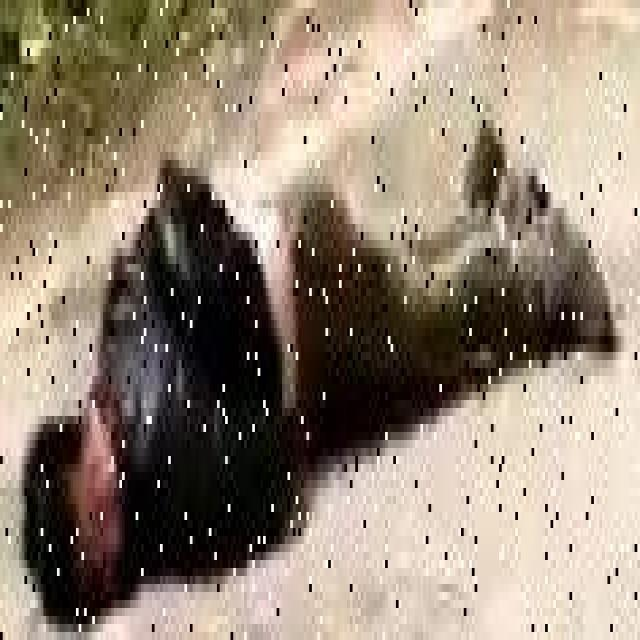fall: (19, 96, 594, 624)
